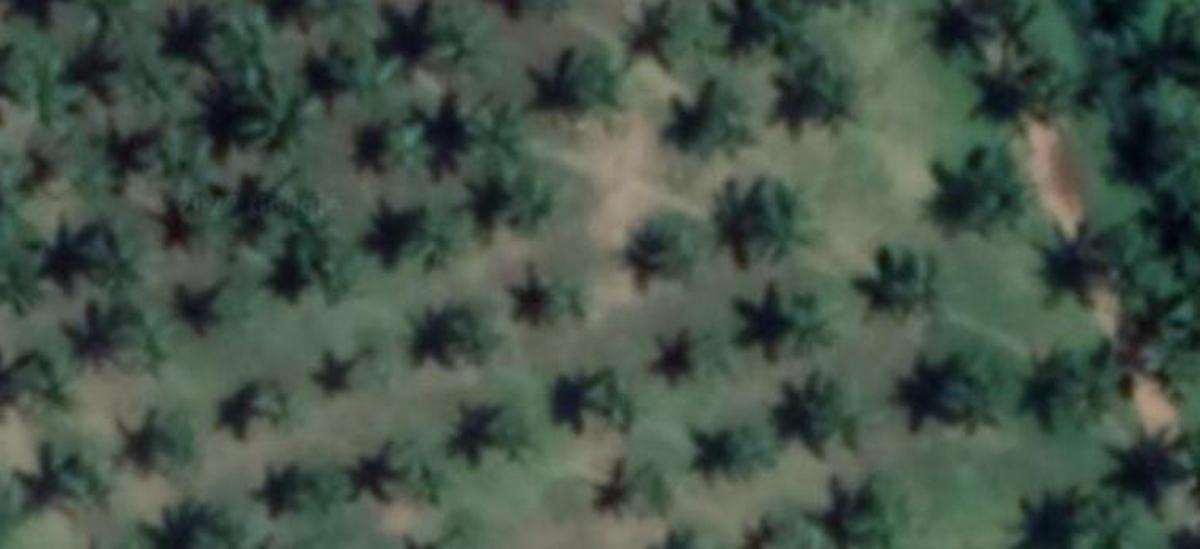coconut: (1084, 215, 1173, 314), (82, 106, 174, 201), (947, 141, 1034, 234), (923, 342, 1009, 434), (71, 217, 157, 309), (233, 69, 319, 161), (1052, 333, 1138, 422), (539, 49, 626, 134), (320, 22, 406, 107), (733, 182, 817, 269), (417, 1, 500, 88), (115, 393, 200, 477), (777, 55, 861, 139), (742, 282, 830, 361), (665, 79, 747, 161), (22, 444, 104, 526), (112, 36, 193, 119), (846, 472, 934, 547), (161, 165, 238, 250), (1119, 66, 1200, 145), (1004, 50, 1085, 128), (463, 95, 538, 179), (661, 4, 738, 85), (407, 306, 490, 376), (477, 169, 560, 239), (390, 203, 469, 276), (6, 352, 85, 425), (553, 364, 633, 436), (109, 307, 184, 382), (184, 268, 258, 344), (360, 106, 434, 182), (879, 241, 949, 320), (693, 417, 768, 490), (787, 380, 863, 452), (628, 220, 701, 291), (287, 182, 353, 258), (285, 234, 353, 306), (241, 371, 309, 442), (195, 0, 268, 63), (653, 323, 720, 388), (588, 455, 658, 517), (479, 401, 538, 474), (512, 268, 587, 325), (1068, 487, 1136, 549), (390, 447, 455, 510), (319, 344, 377, 406), (273, 461, 328, 512), (0, 252, 42, 315)
